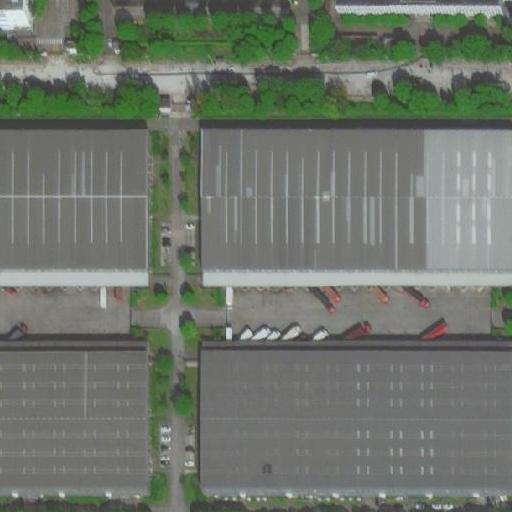building: (197, 129, 510, 284), (200, 342, 511, 496), (1, 342, 146, 501), (1, 129, 144, 282), (337, 1, 508, 16)
